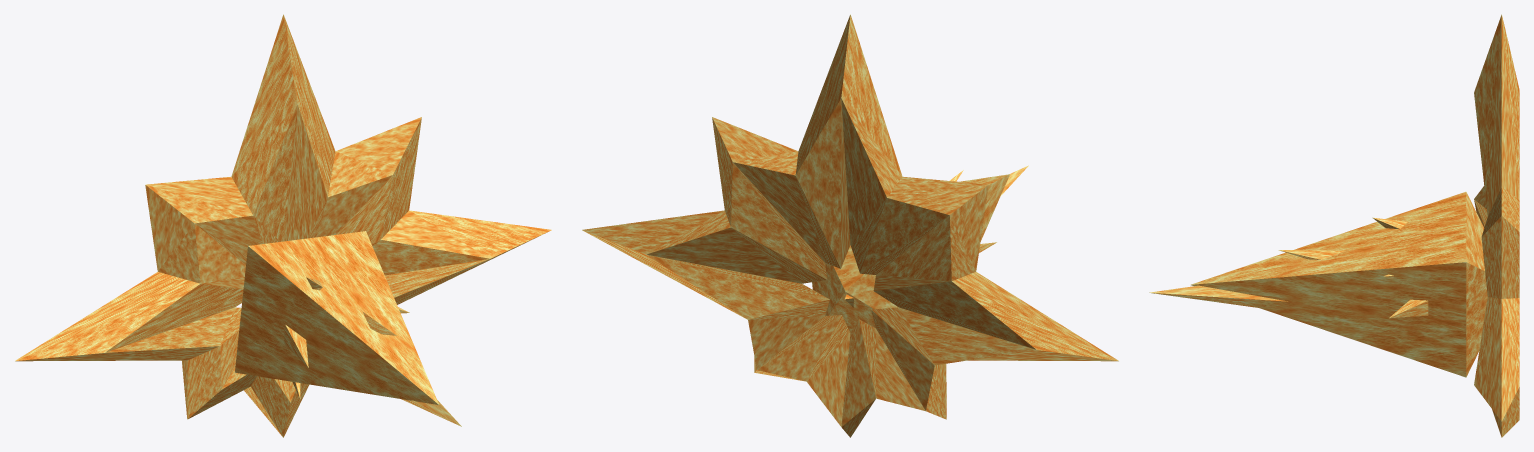
File: Wand_Fire.fbx
The picture shows the model from 3 angles, left to right: view 1: azimuth 30°, elevation 25°; view 2: azimuth 150°, elevation 25°; view 3: azimuth 270°, elevation 25°; orthographic projection.
Visible parts, largest first — view 1: explosionfx_spikes; view 2: explosionfx_spikes; view 3: explosionfx_spikes.
Part boxes in pixels (x1,y1,x2,y2): explosionfx_spikes: [15, 14, 551, 437]; explosionfx_spikes: [582, 14, 1118, 437]; explosionfx_spikes: [1149, 14, 1519, 437].
Bounding box in the file's own units: 0.2057 × 0.1549 × 0.1245.
Materials: 1 (1 with a texture image).
